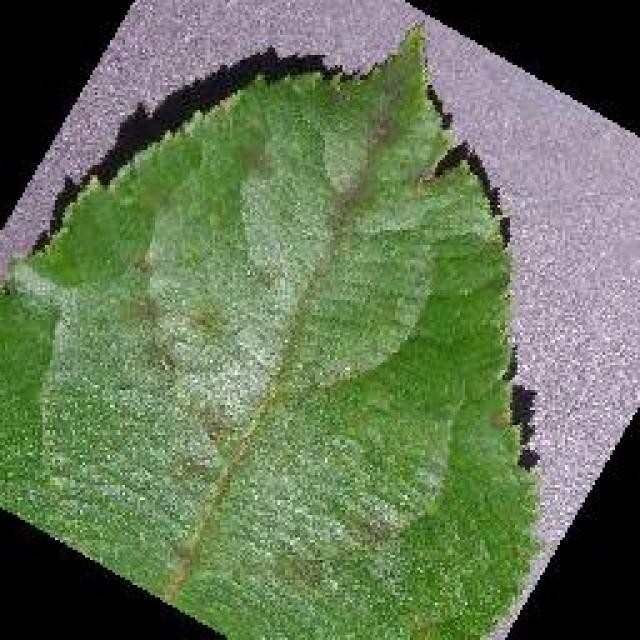apple scab disease: (0, 20, 550, 638)
